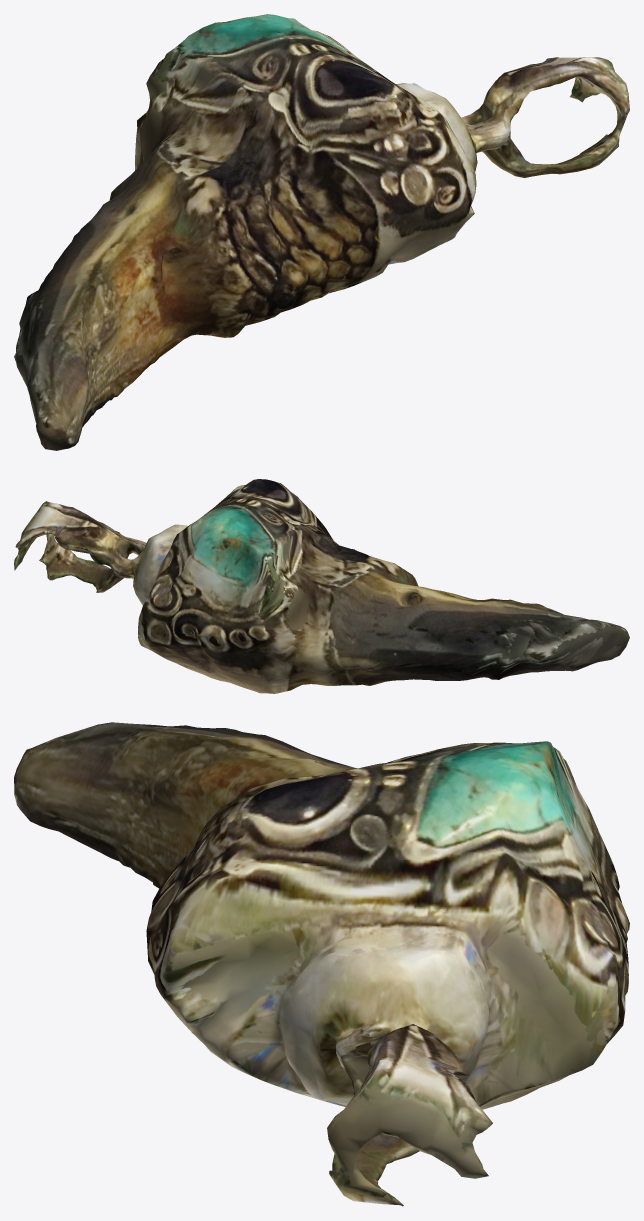
3 views of the same model, one above another, from view 1: azimuth 30°, elevation 25°; view 2: azimuth 150°, elevation 25°; view 3: azimuth 270°, elevation 25° (orthographic). The views are drawn at different scales.
Parts seen in each view (by area): view 1: ORITGT; view 2: ORITGT; view 3: ORITGT.
Boxes of the visible parts, <box> form: ORITGT: <box>14,14,629,450</box>; ORITGT: <box>14,479,629,693</box>; ORITGT: <box>14,722,629,1206</box>.
Size of the model in its own units: 0.0954 by 0.0321 by 0.0515.
1 material, 1 textured.
